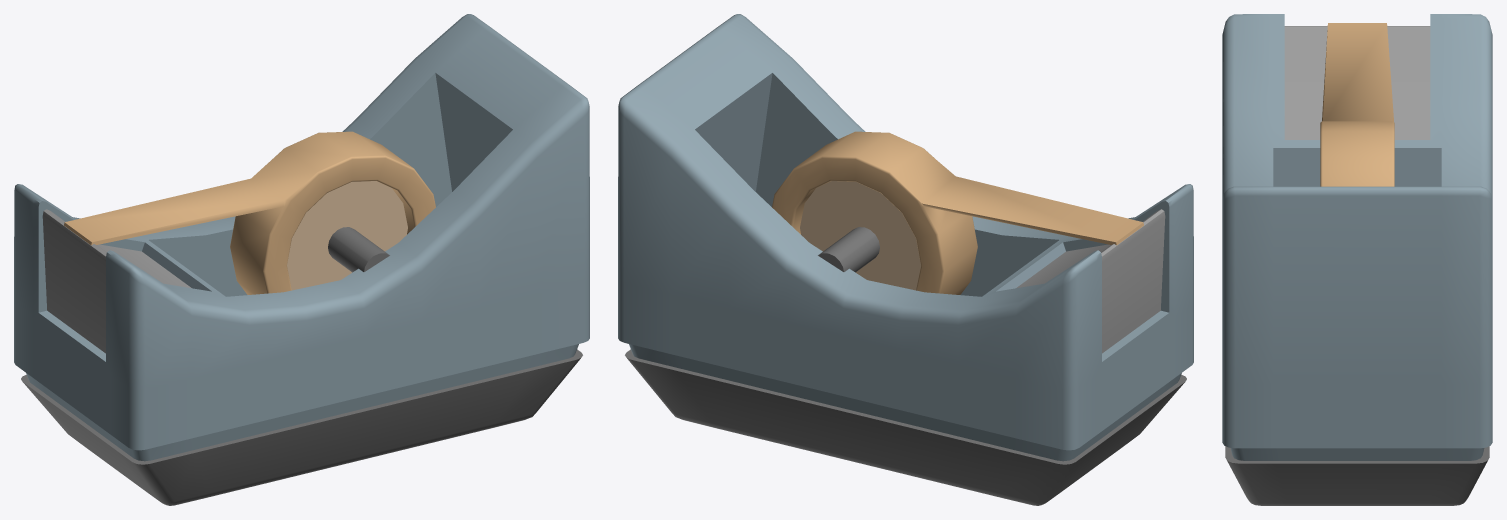
The model's file is Tape Dispenser02.fbx.
3 renders of one model, left to right at view 1: azimuth 30°, elevation 25°; view 2: azimuth 150°, elevation 25°; view 3: azimuth 270°, elevation 25°, orthographic. The views are drawn at different scales.
Parts seen in each view (by area): view 1: Tape Dispenser02; view 2: Tape Dispenser02; view 3: Tape Dispenser02.
Part boxes in pixels (x1,y1,x2,y2): Tape Dispenser02: (14, 14, 589, 505); Tape Dispenser02: (618, 14, 1193, 505); Tape Dispenser02: (1222, 14, 1492, 505).
Bounding box in the file's own units: 0.1991 × 0.0939 × 0.1321.
